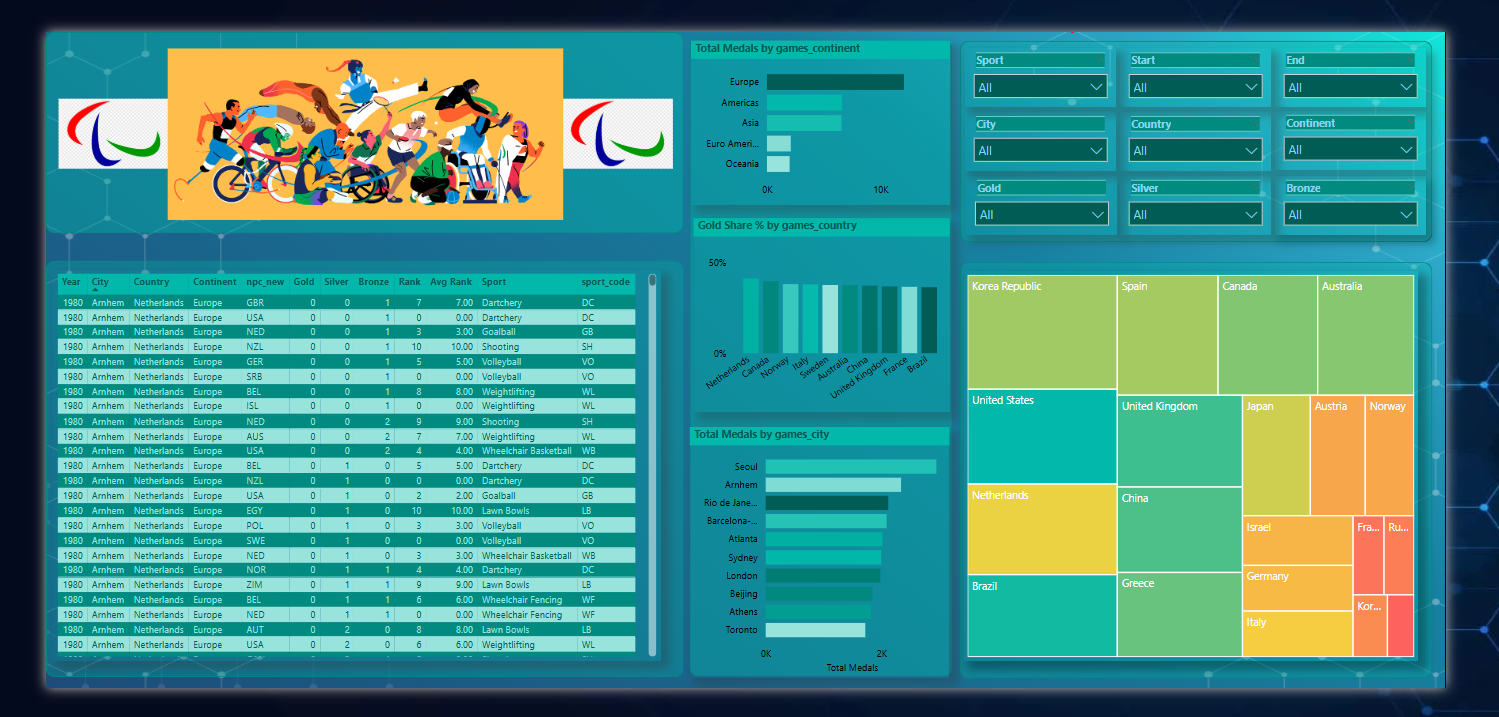

Layout of this report page (visuals, bound fields, positions):
{"tool":"powerbi","page":{"name":"Report","canvas":[1600,750],"ordinal":1},"visuals":[{"type":"shape","box":[0,262,728.6,475.7],"z":0},{"type":"shape","box":[1044.9,10,540,230],"z":1000},{"type":"tableEx","fields":{"Values":["Sheet1.games_year","Sheet1.games_city","Sheet1.games_country","Sheet1.games_continent","Sheet1.npc_new","Sheet1.npc_gold","Sheet1.npc_silver","Sheet1.npc_bronze","Sum(Sheet1.npc_rank)","DAX Function.Avg Rank","Sheet1.sport","Sheet1.sport_code"]},"box":[7.1,272,695.7,447.1],"z":2000},{"type":"slicer","fields":{"Values":["Sheet1.sport"]},"box":[1050.5,18.5,172.9,67.1],"z":3000},{"type":"slicer","fields":{"Values":["Sheet1.games_start"]},"box":[1227.7,18.5,172.9,67.1],"z":4000},{"type":"slicer","fields":{"Values":["Sheet1.games_end"]},"box":[1404.8,18.5,172.9,67.1],"z":5000},{"type":"slicer","fields":{"Values":["Sheet1.games_city"]},"box":[1050.5,91.3,172.9,67.1],"z":6000},{"type":"slicer","fields":{"Values":["Sheet1.games_country"]},"box":[1227.7,91.3,172.9,67.1],"z":7000},{"type":"slicer","fields":{"Values":["Sheet1.games_continent"]},"box":[1404.8,89.9,172.9,67.1],"z":8000},{"type":"slicer","fields":{"Values":["Sheet1.npc_gold"]},"box":[1052,164.2,172.9,67.1],"z":9000},{"type":"slicer","fields":{"Values":["Sheet1.npc_silver"]},"box":[1227.7,164.2,172.9,67.1],"z":10000},{"type":"slicer","fields":{"Values":["Sheet1.npc_bronze"]},"box":[1404.8,164.2,172.9,67.1],"z":11000},{"type":"shape","box":[1044.9,262.9,540,475.7],"z":12000},{"type":"treemap","fields":{"Group":["Sheet1.games_country"],"Values":["DAX Function.Total Medals"]},"box":[1049.2,273.1,520,446.4],"z":13000},{"type":"shape","box":[0,0,728.6,230],"z":14000},{"type":"image","box":[7.1,71.4,140,90],"z":15000},{"type":"image","box":[582.9,71.4,140,90],"z":16000},{"type":"image","box":[134.3,10,461.4,212.9],"z":17000},{"type":"shape","box":[735,10,300,726.7],"z":18000},{"type":"clusteredColumnChart","fields":{"Category":["Sheet1.games_country"],"Y":["DAX Function.Gold Share %"]},"box":[740,212.9,292.9,221.4],"z":19000},{"type":"clusteredBarChart","fields":{"Category":["Sheet1.games_city"],"Y":["DAX Function.Total Medals"]},"box":[735,451,296.7,286.7],"z":20000},{"type":"clusteredBarChart","fields":{"Category":["Sheet1.games_continent"],"Y":["DAX Function.Total Medals"]},"box":[737.1,10,295.7,187.1],"z":21000}]}

Visuals, with their boxes in screenshot pixels (x1, y1, x2, y2), scaled from the page's 1600x750 canvas onto the 1499x717 screenshot:
shape: bbox(0, 250, 683, 705)
shape: bbox(979, 10, 1485, 229)
tableEx - Sheet1.games_year x Sheet1.games_city: bbox(7, 260, 658, 687)
slicer - Sheet1.sport: bbox(984, 18, 1146, 82)
slicer - Sheet1.games_start: bbox(1150, 18, 1312, 82)
slicer - Sheet1.games_end: bbox(1316, 18, 1478, 82)
slicer - Sheet1.games_city: bbox(984, 87, 1146, 151)
slicer - Sheet1.games_country: bbox(1150, 87, 1312, 151)
slicer - Sheet1.games_continent: bbox(1316, 86, 1478, 150)
slicer - Sheet1.npc_gold: bbox(986, 157, 1148, 221)
slicer - Sheet1.npc_silver: bbox(1150, 157, 1312, 221)
slicer - Sheet1.npc_bronze: bbox(1316, 157, 1478, 221)
shape: bbox(979, 251, 1485, 706)
treemap - Sheet1.games_country x DAX Function.Total Medals: bbox(983, 261, 1470, 688)
shape: bbox(0, 0, 683, 220)
image: bbox(7, 68, 138, 154)
image: bbox(546, 68, 677, 154)
image: bbox(126, 10, 558, 213)
shape: bbox(689, 10, 970, 704)
clusteredColumnChart - Sheet1.games_country x DAX Function.Gold Share %: bbox(693, 204, 968, 415)
clusteredBarChart - Sheet1.games_city x DAX Function.Total Medals: bbox(689, 431, 967, 705)
clusteredBarChart - Sheet1.games_continent x DAX Function.Total Medals: bbox(691, 10, 968, 188)
